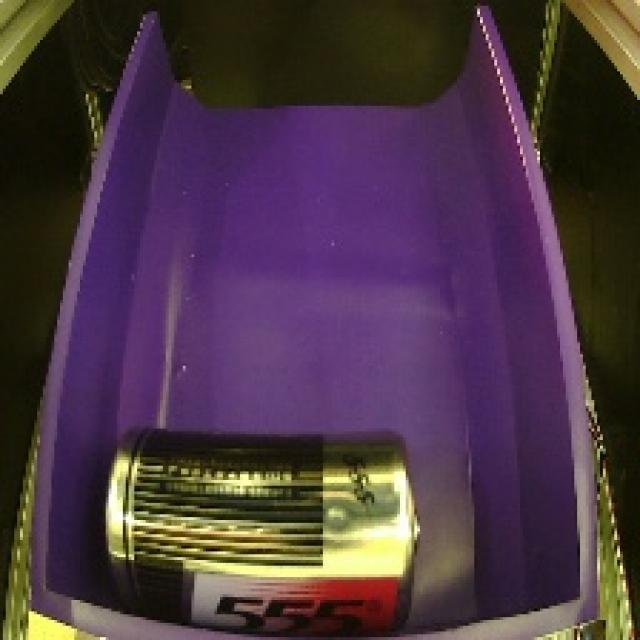battery: (79, 414, 445, 640)
